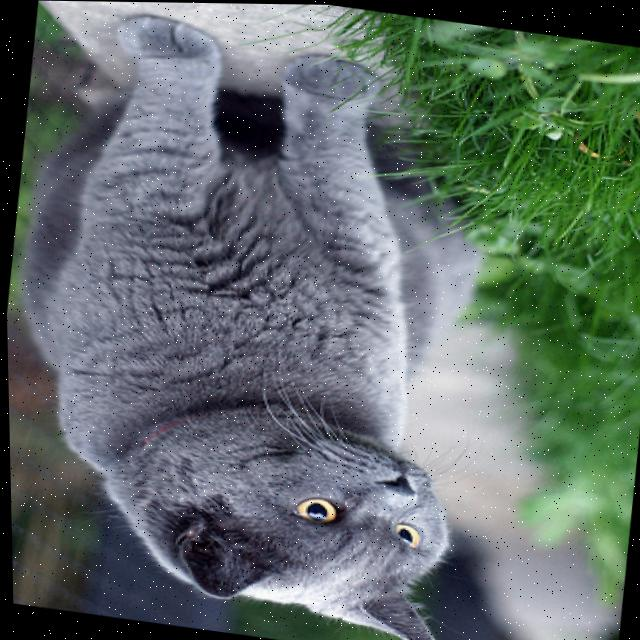British Shorthair: (0, 0, 515, 640)
